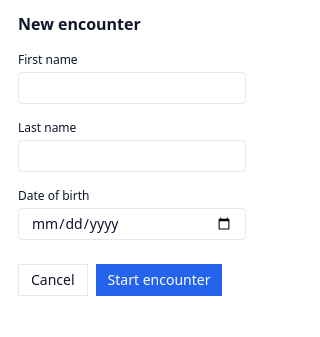
Scenario: StartEncounterPage › rejects a future date of birth
Type "Jane" into the field labelled "First name" at {"x": 132, "y": 88}, box [18, 72, 246, 104]
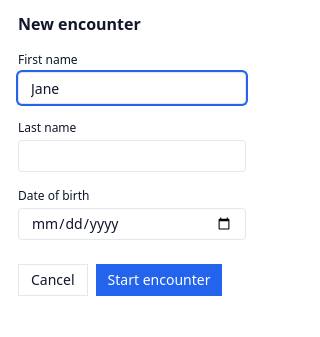
Type "Smith" into the field labelled "Last name" at {"x": 132, "y": 156}, box [18, 140, 246, 172]
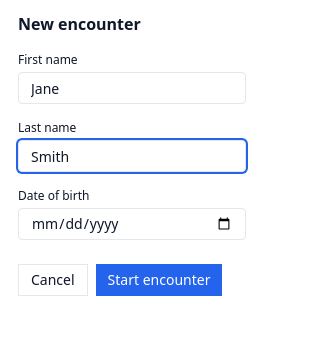
Type "2099-01-01" into the date field labelled "Date of birth" at {"x": 132, "y": 224}, box [18, 208, 246, 240]
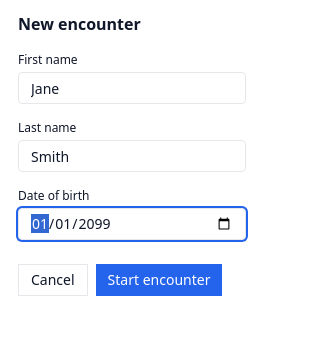
Click the button "Start encounter" at {"x": 159, "y": 280}, box [96, 264, 222, 296]
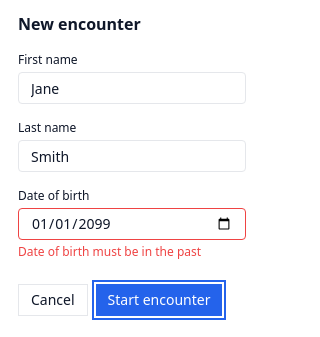
Expected: the text "Date of birth must be in the past" is shown, [18, 243, 201, 260]
